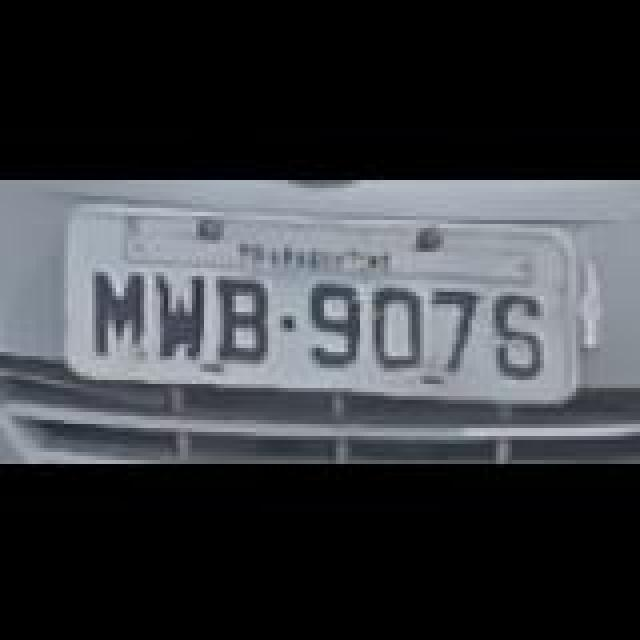6: (492, 288, 548, 376)
7: (434, 286, 486, 370)
9: (308, 278, 364, 362)
B: (216, 272, 272, 360)
D: (372, 282, 428, 366)
M: (92, 268, 148, 356)
W: (156, 272, 212, 360)
